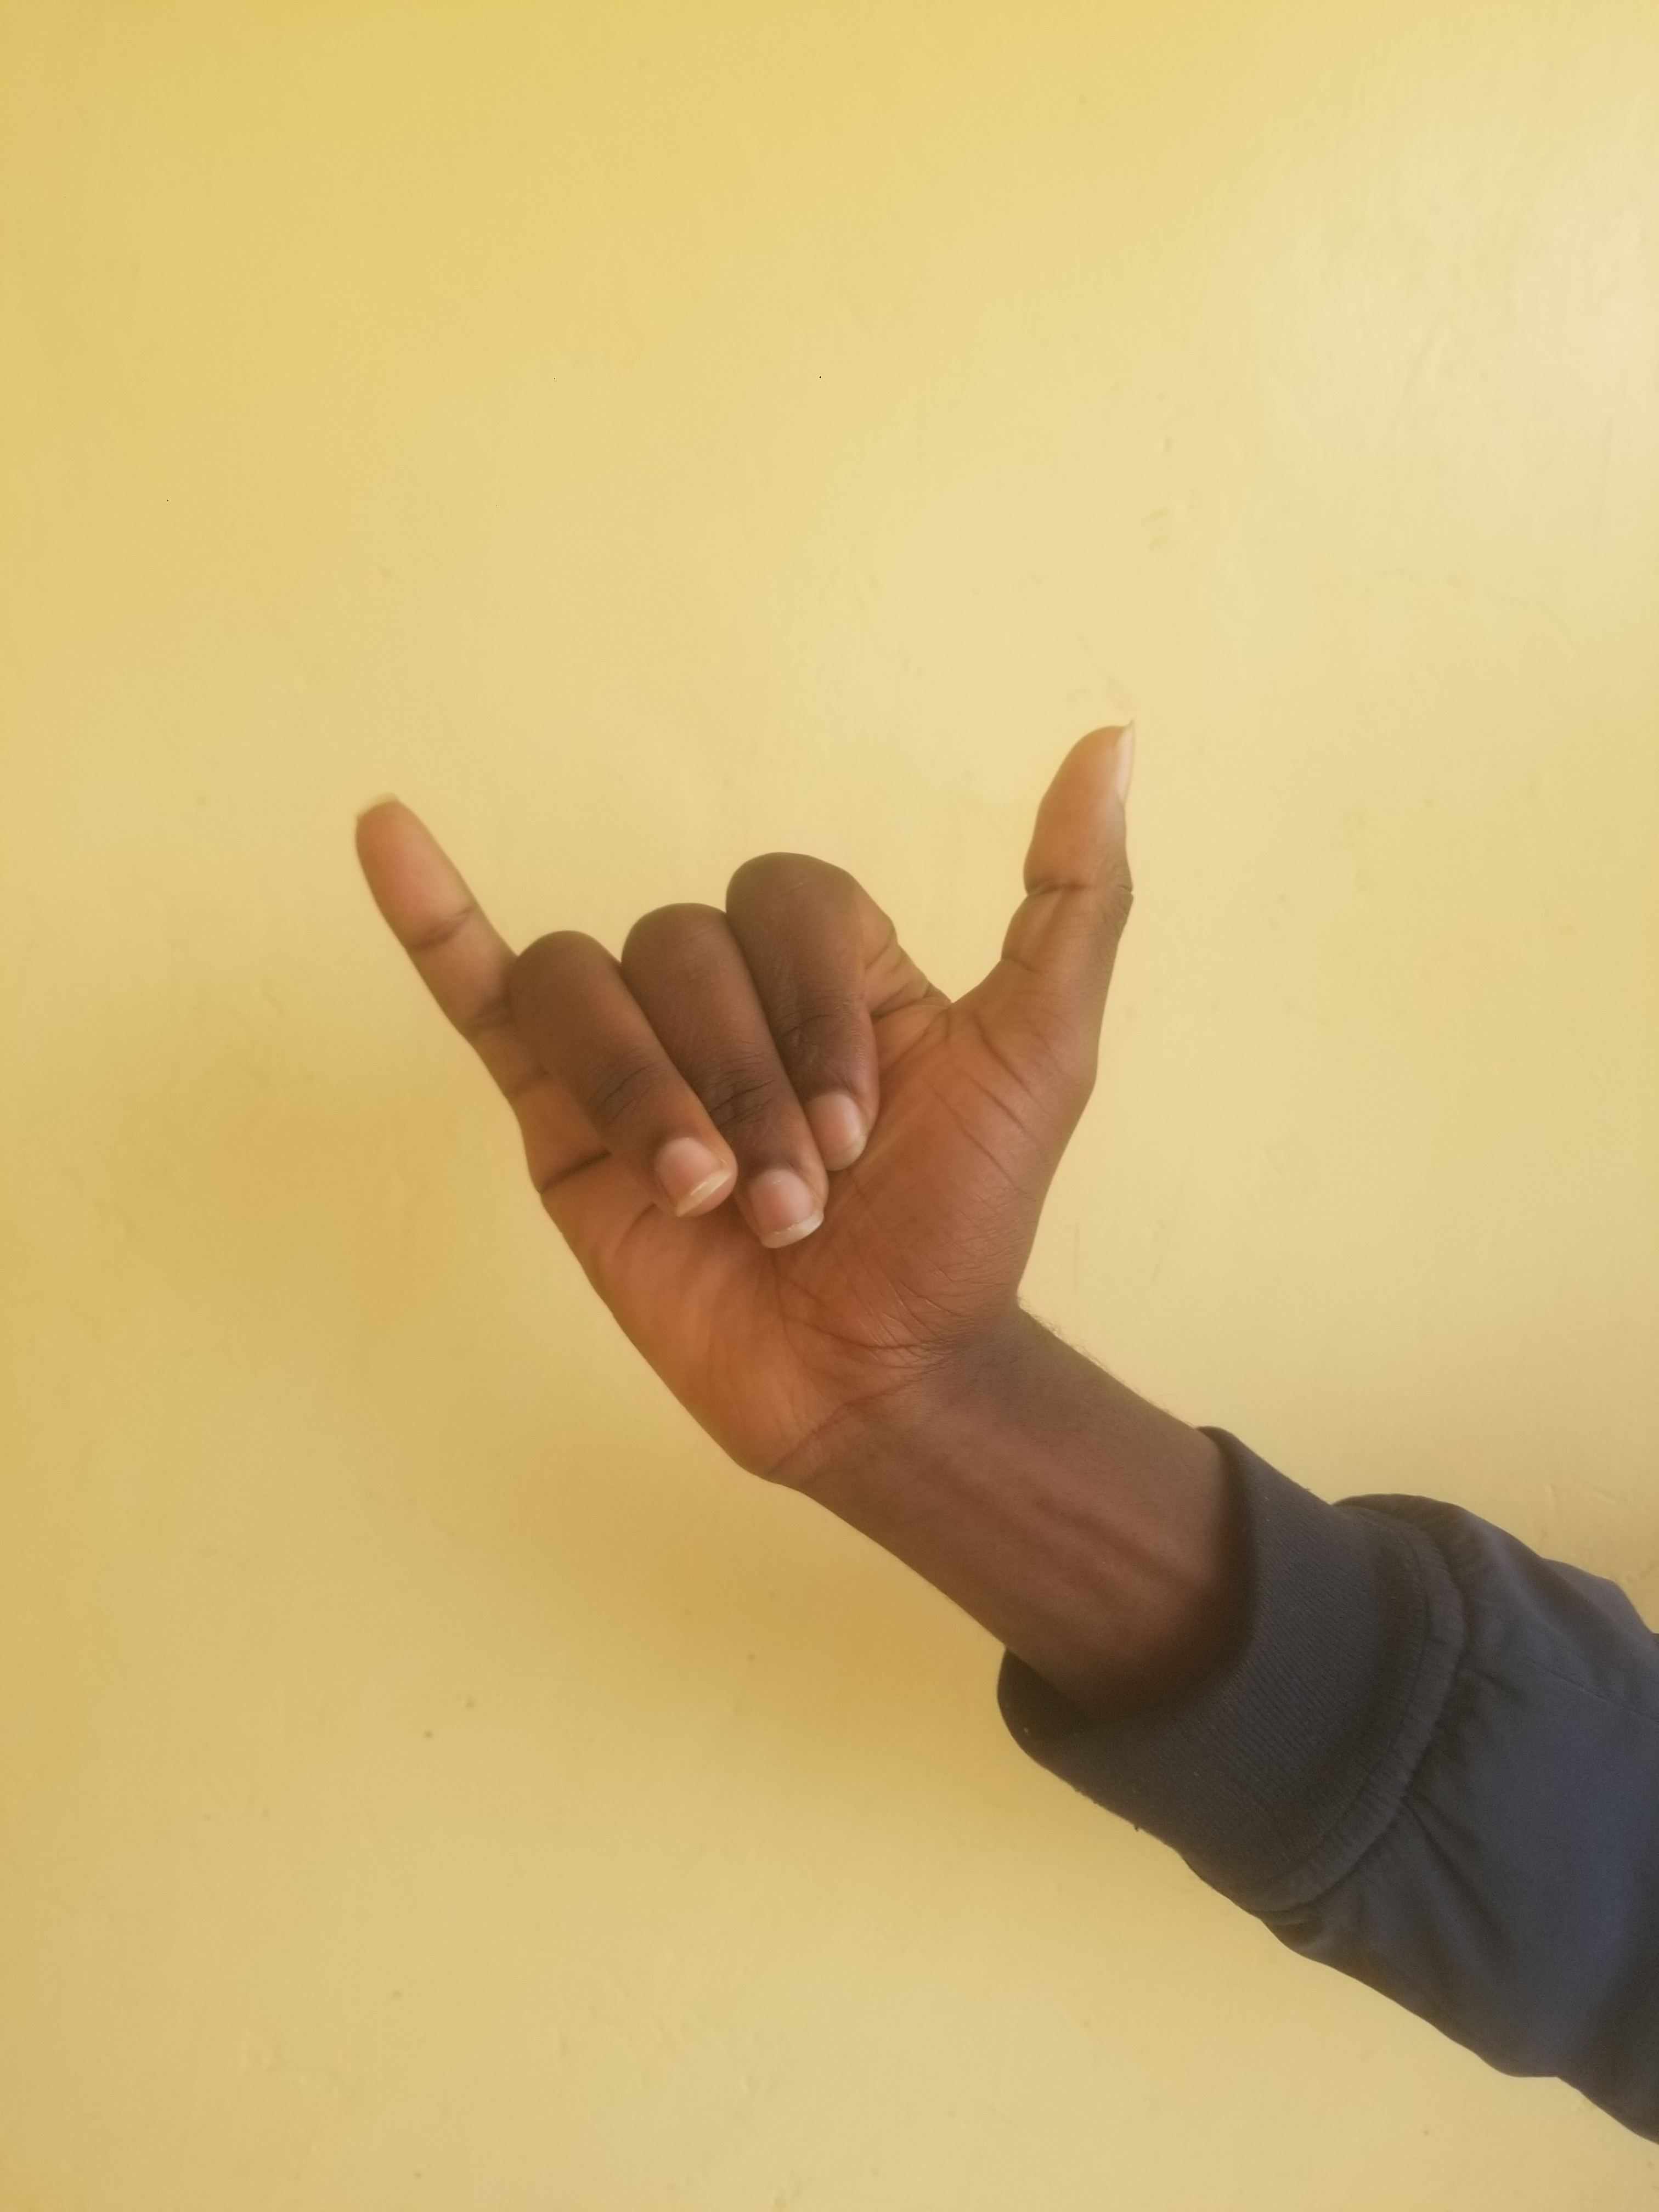call: (218, 563, 1352, 1679)
